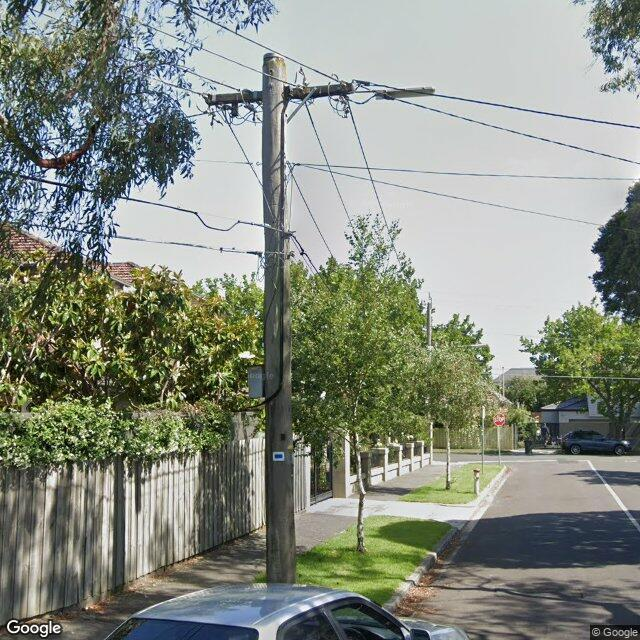crossarm: (204, 80, 354, 107)
streetlight: (355, 86, 436, 100)
timber-pole: (262, 55, 295, 583)
